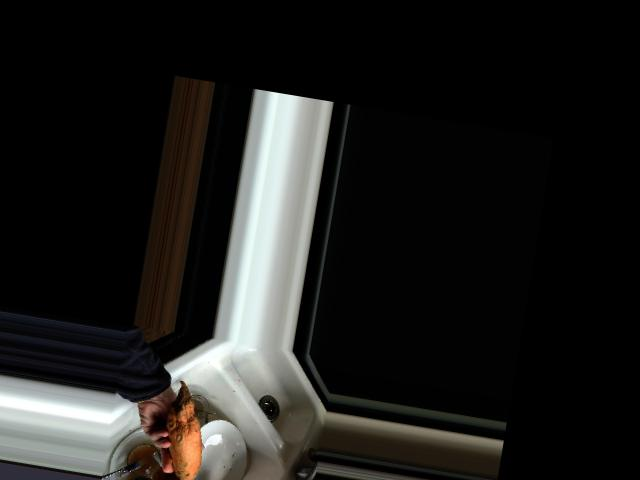sweet_potato: (157, 378, 216, 480)
